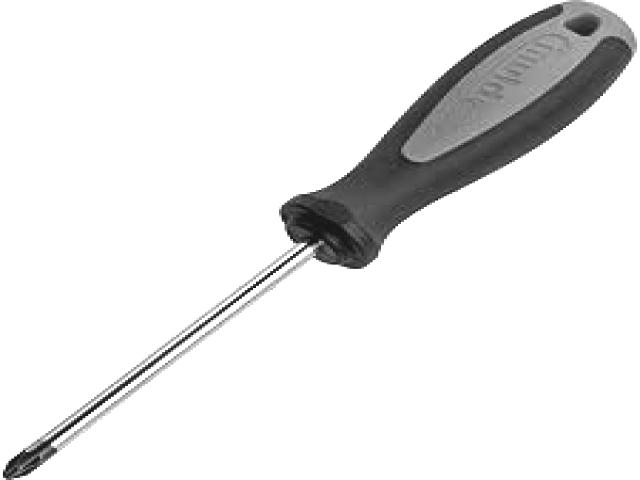Screwdriver: (4, 0, 638, 480)
